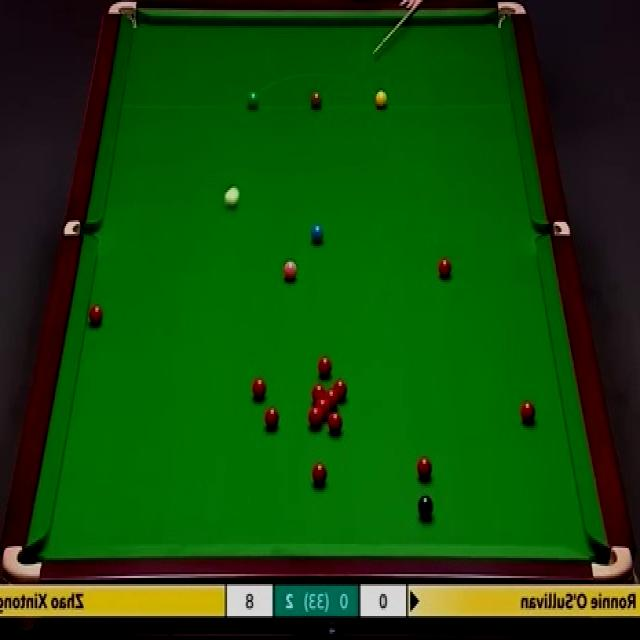pocket: (591, 543, 633, 585), (3, 542, 44, 583), (494, 0, 528, 37), (109, 0, 139, 35), (533, 217, 572, 238), (65, 218, 100, 238)
